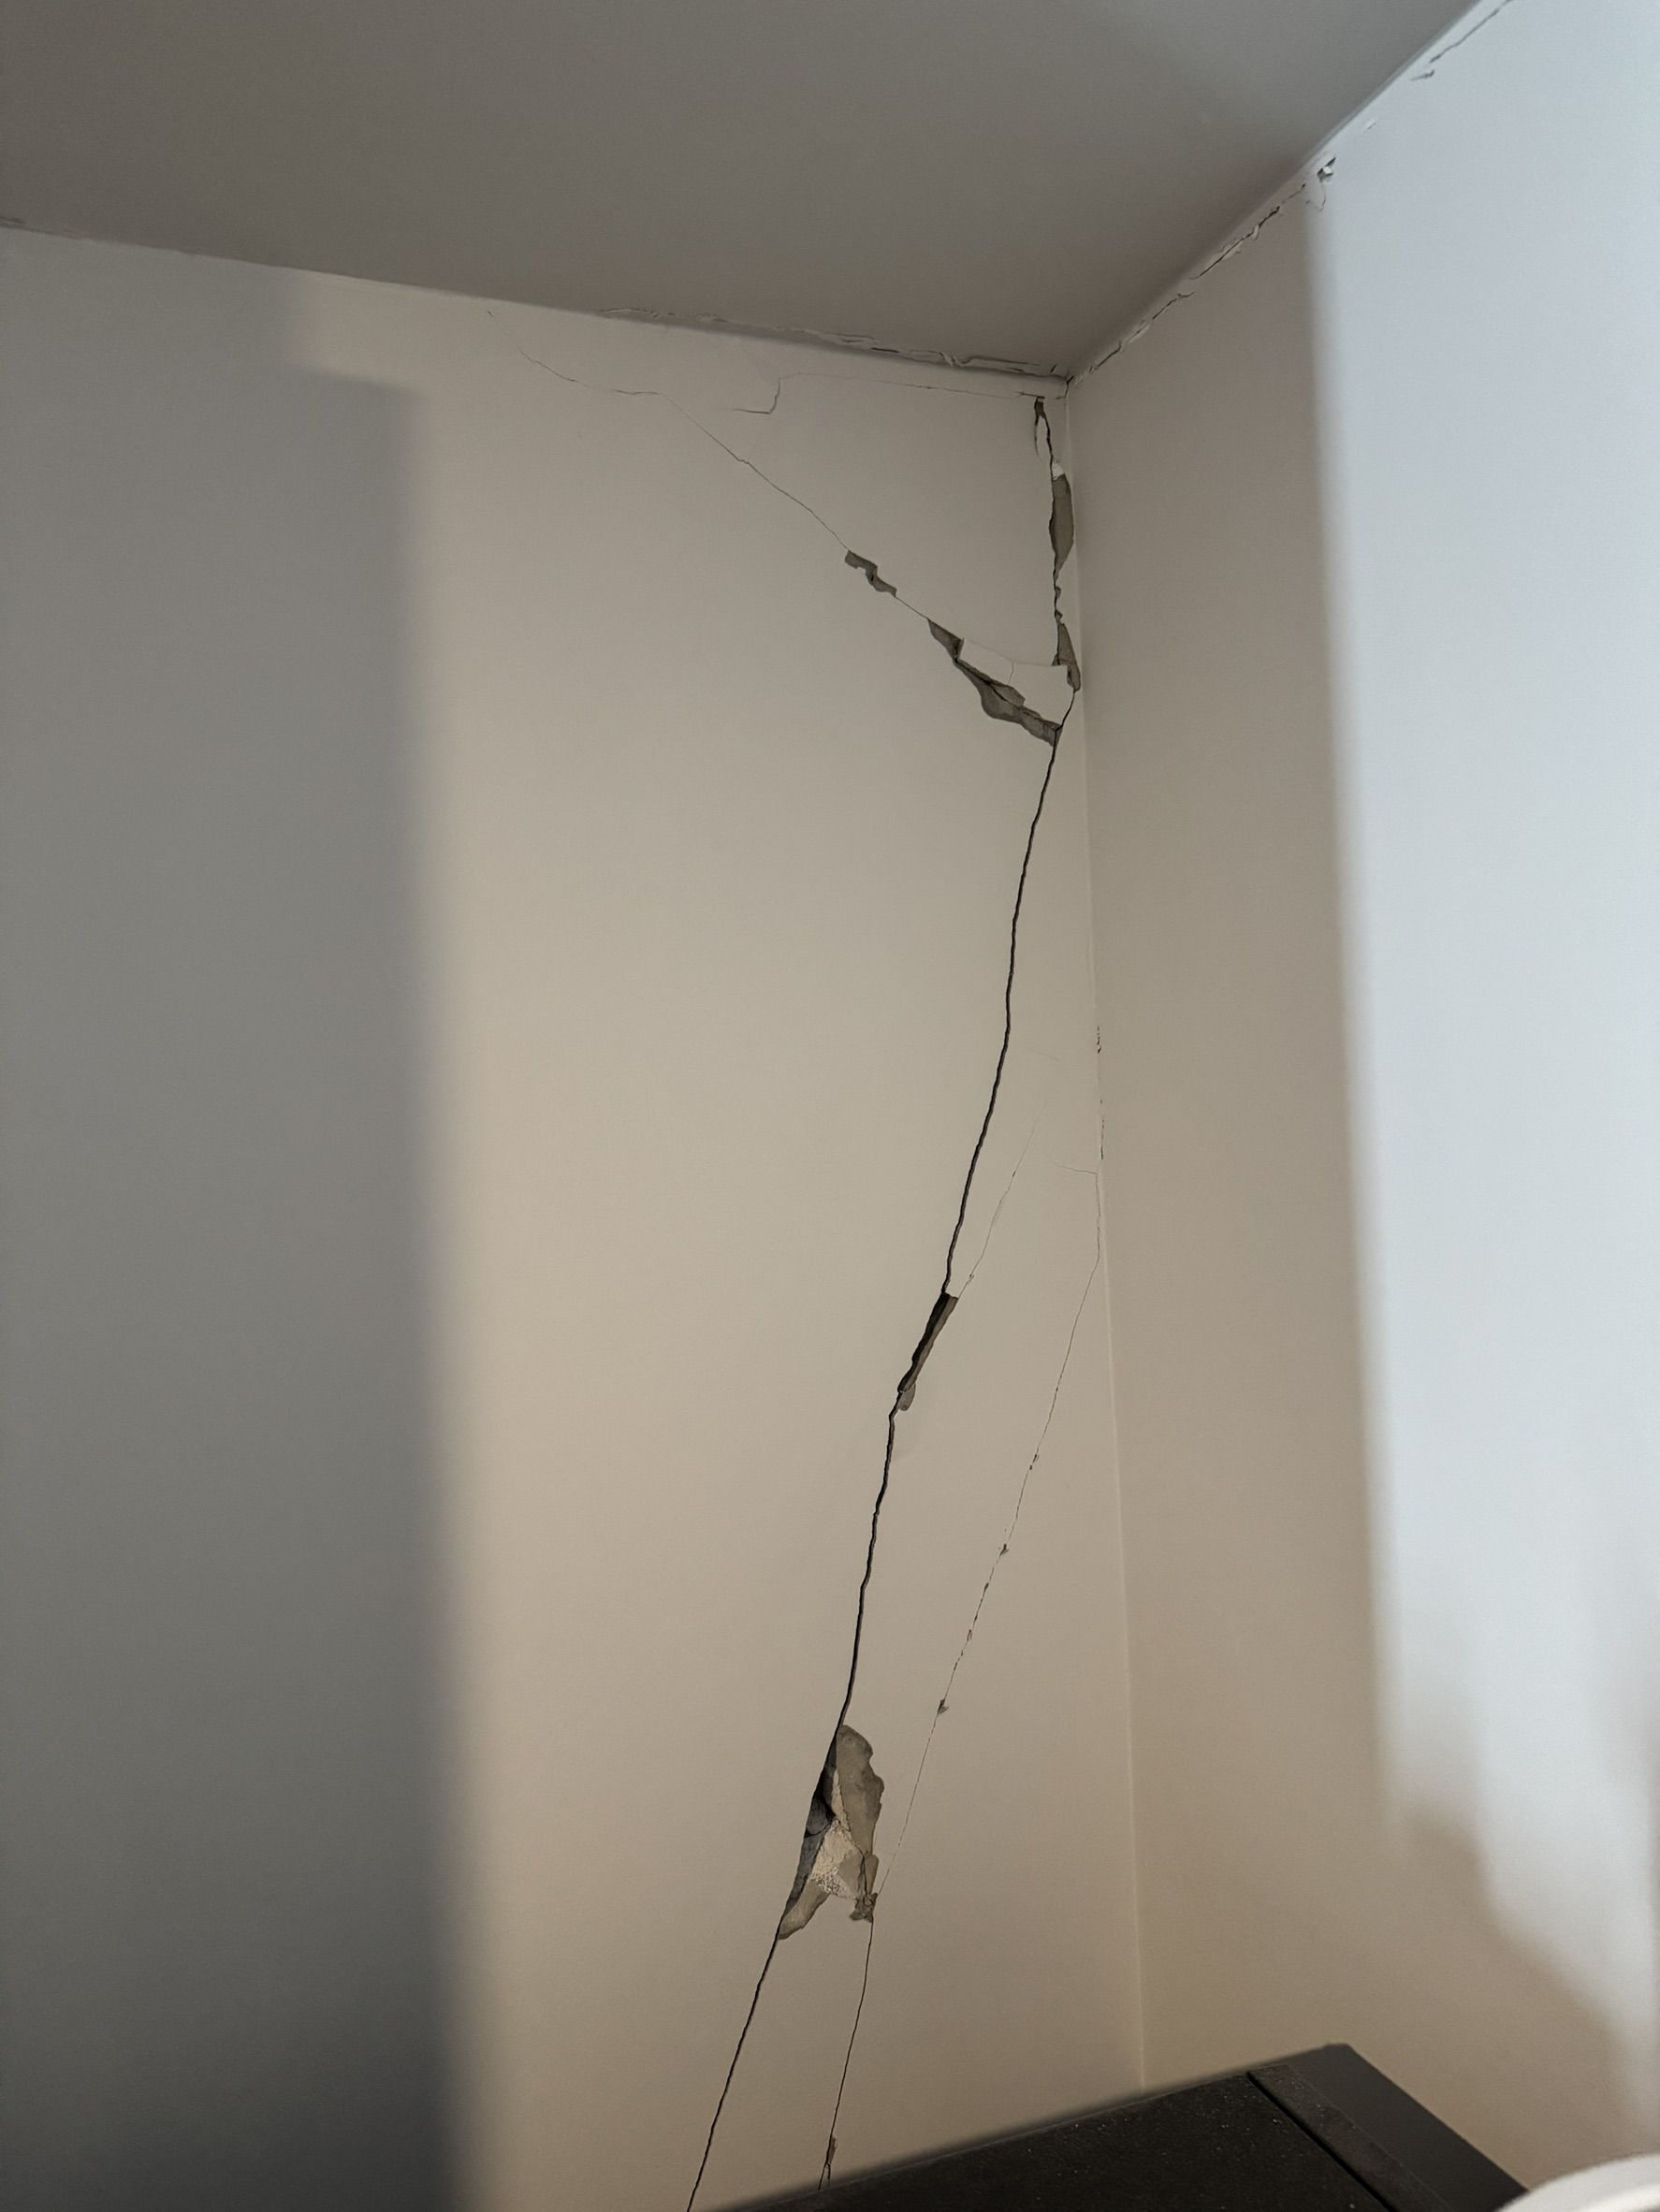High: (643, 387, 1156, 2099)
